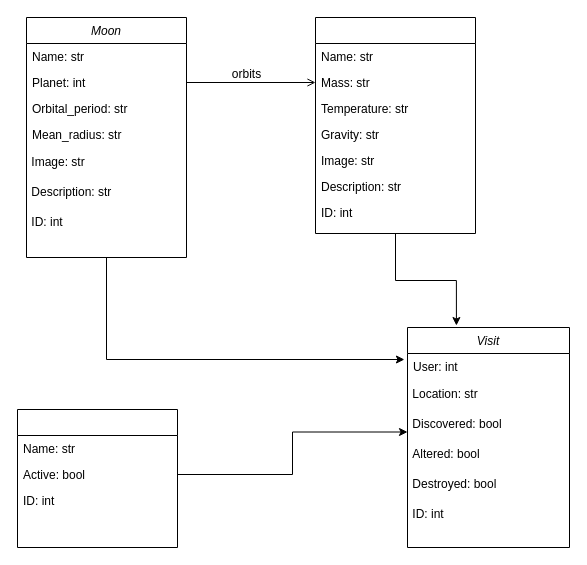
This 587x565 diagram has some shape labels left out. Here are the shapes that lost their labels. From the top down, the box of each, then its label:
(314, 16, 476, 234): Planet
(16, 408, 178, 548): User
